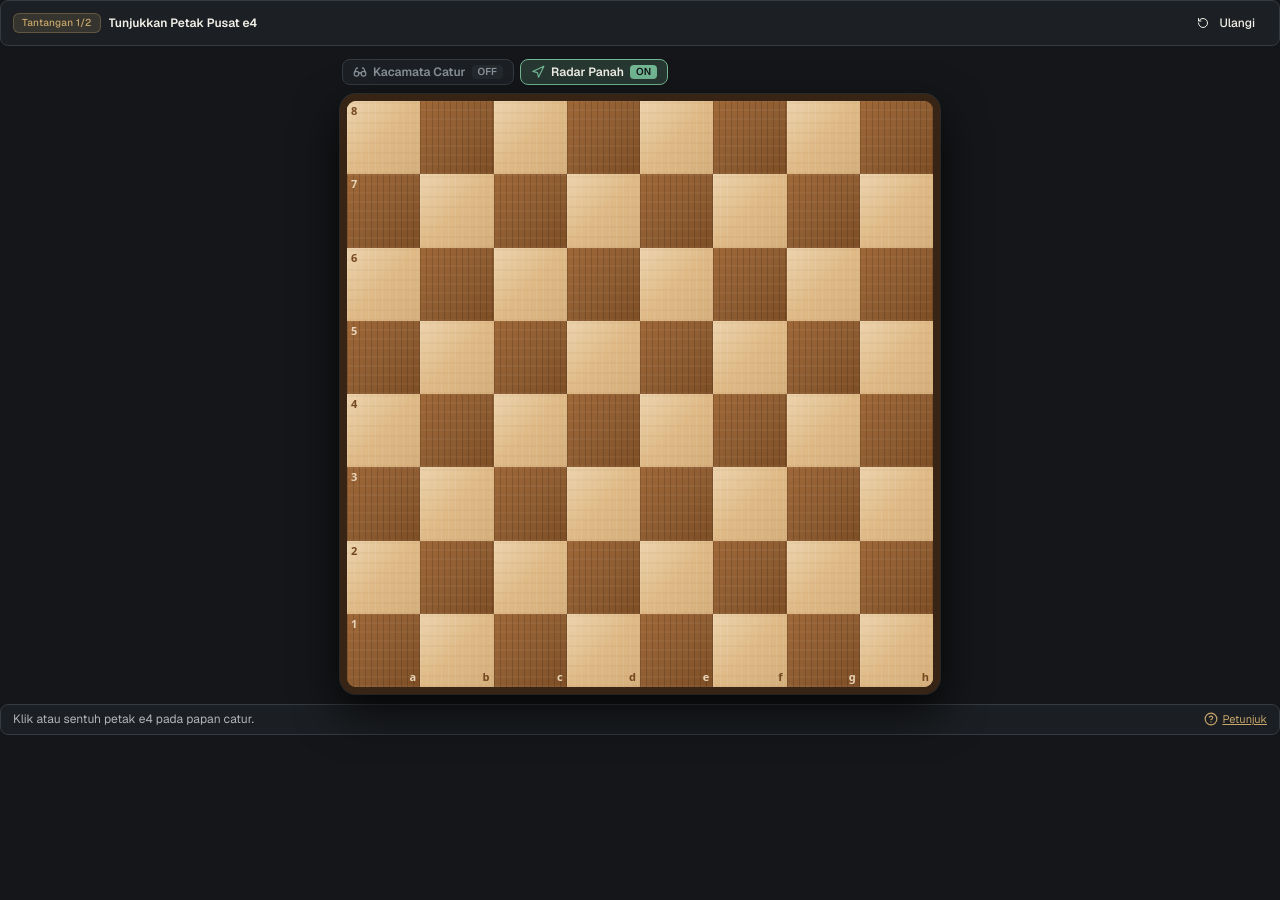
Test: InteractiveLessonBoard - Pop-up Step Completion Modal › advances to next step and closes modal when clicking 'Lanjut ke Tantangan Berikutnya'
Complete step 1
Step 1. Click the button named "Petak e4" → [677, 431], box [640,394,713,467]
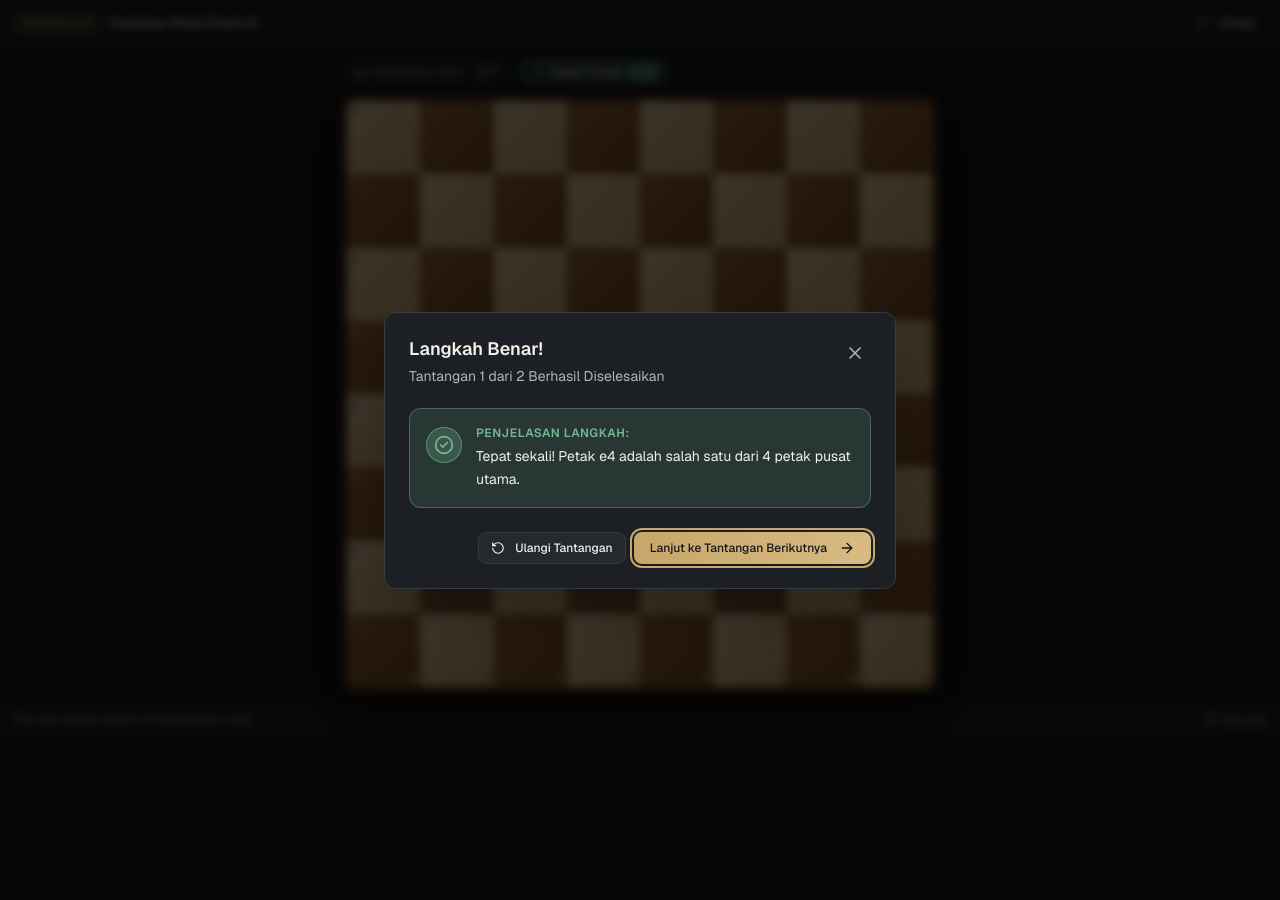
Step 2. Click the button "Lanjut ke Tantangan Berikutnya" → [752, 548], box [634,532,871,564]
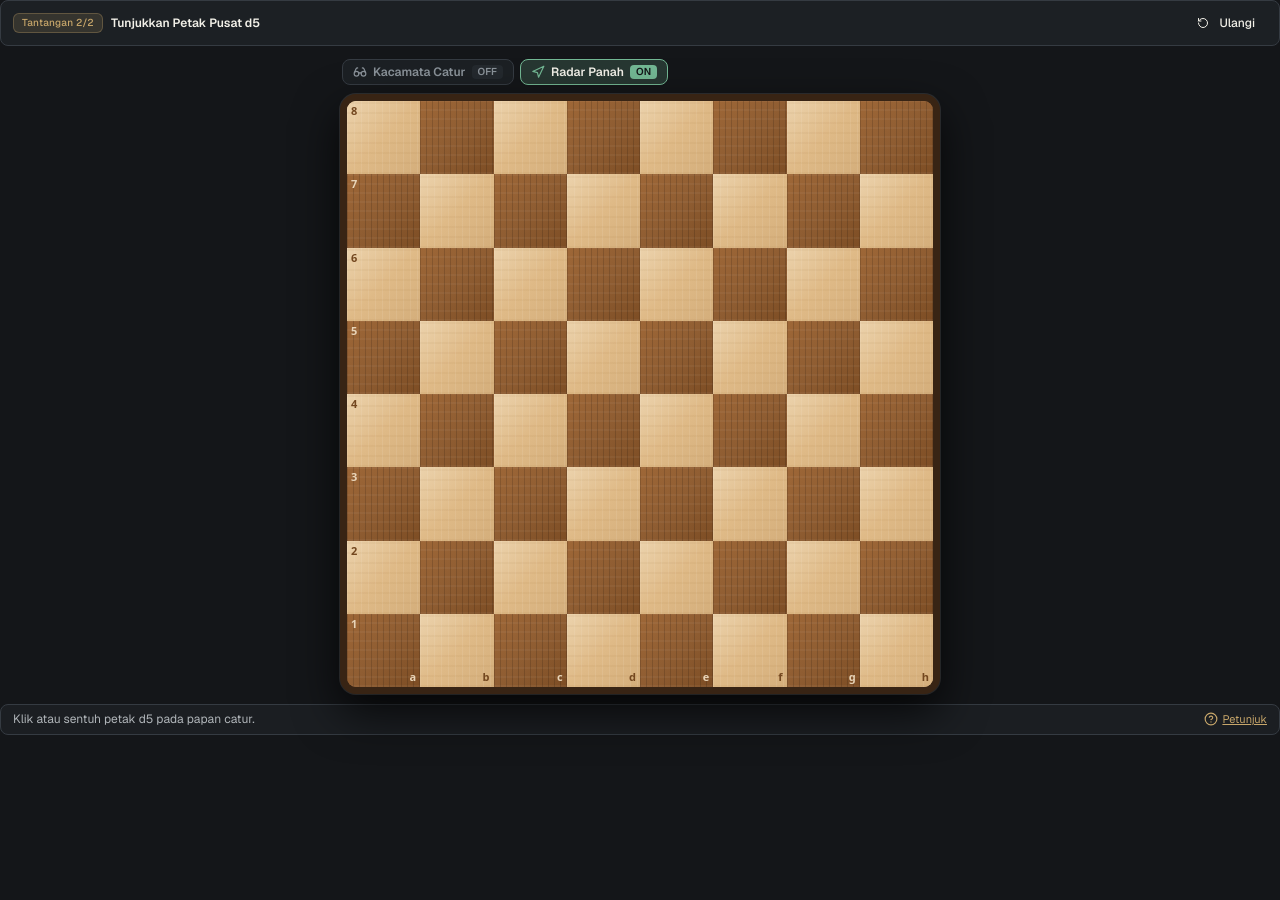
Expected: the dialog is gone
